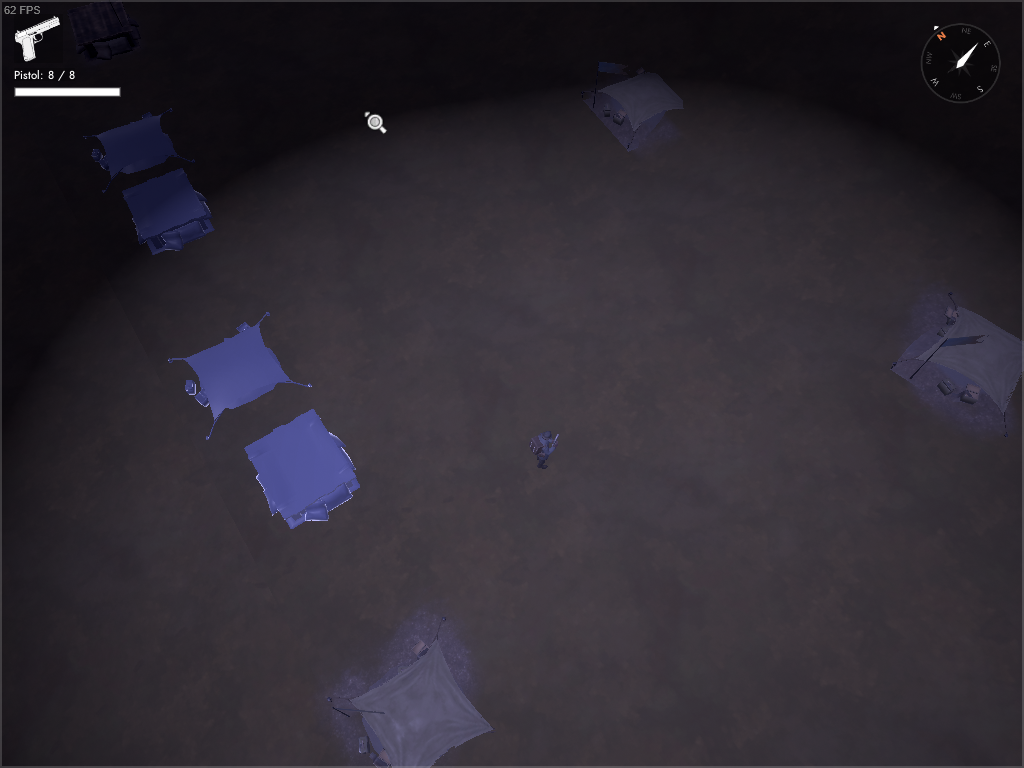foxhole: (316, 602, 511, 768), (873, 286, 1024, 449), (162, 306, 325, 445), (573, 50, 703, 161), (75, 91, 201, 198)
pillbox: (240, 404, 372, 537), (116, 165, 225, 262), (60, 1, 146, 68)
player: (526, 426, 563, 472)
